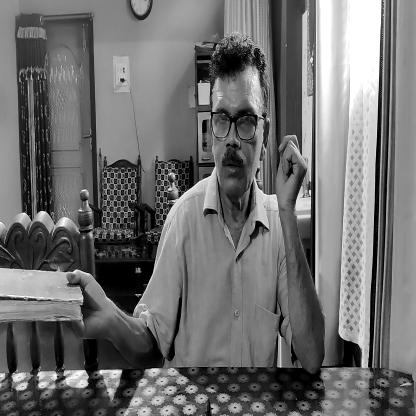Normal: (200, 36, 273, 204)
